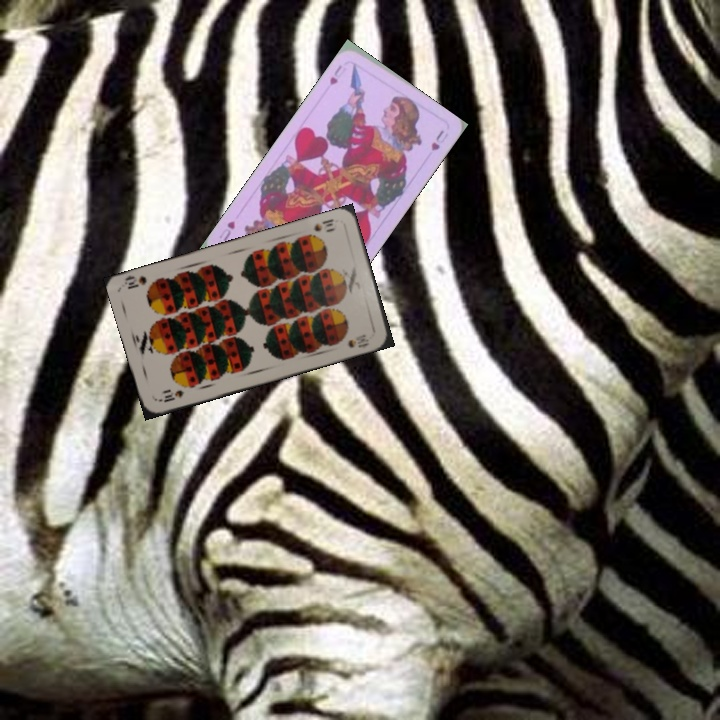HU: (325, 61, 349, 88)
S10: (309, 215, 339, 235), (155, 386, 186, 405)
